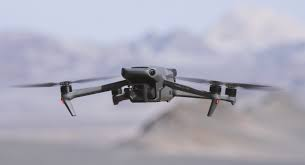drone: (11, 64, 270, 117)
